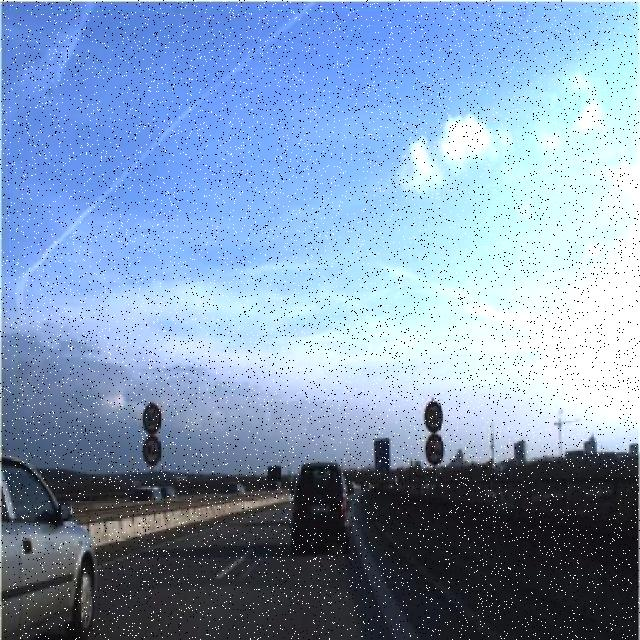Ograniczenie predkosci do 80: (421, 398, 447, 434), (140, 397, 164, 435)
Zakaz wyprzedzania: (423, 433, 448, 469), (142, 434, 164, 469)
